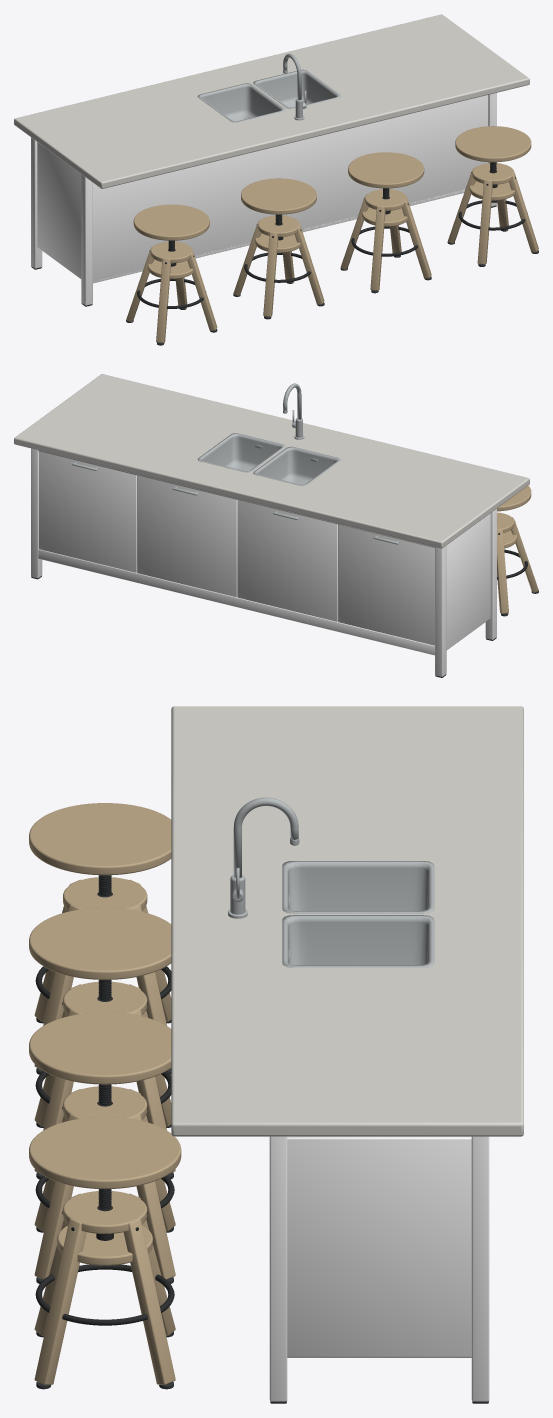
File: island-four-sink-detailed.glb
3 renders of one model, top to bottom at view 1: azimuth 30°, elevation 25°; view 2: azimuth 150°, elevation 25°; view 3: azimuth 270°, elevation 25°, orthographic. The views are drawn at different scales.
Visible parts, largest first — view 1: Thick eased island worktop, Recessed island rear panel, Recessed island end panel, Rounded timber stool seat.002, Rounded timber stool seat, Rounded timber stool seat.003, Rounded timber stool seat.001, Rounded stainless bowl and rim, Rounded stainless bowl and rim.001, Square island corner post, Square island corner post.001, Splayed timber stool leg.014 (+20 smaller); view 2: Thick eased island worktop, Recessed sink island door.001, Recessed sink island door.002, Recessed sink island door.003, Recessed sink island door, Recessed island end panel, Island front cross rail, Rounded stainless bowl and rim.001, Rounded stainless bowl and rim, Square island corner post.001, Square island corner post.003, Square island corner post (+4 smaller); view 3: Thick eased island worktop, Recessed island end panel.001, Rounded timber stool seat.003, Rounded timber stool seat.002, Rounded timber stool seat.001, Rounded timber stool seat, Rounded stainless bowl and rim.001, Rounded stainless bowl and rim, Square island corner post.002, Square island corner post.003, Splayed timber stool leg.012, Splayed timber stool leg.015 (+13 smaller).
Part boxes in pixels (<box>): Thick eased island worktop: <box>14,14,529,188</box>; Recessed island rear panel: <box>93,95,488,282</box>; Recessed island end panel: <box>37,142,81,278</box>; Rounded timber stool seat.002: <box>348,152,424,188</box>; Rounded timber stool seat: <box>133,204,209,240</box>; Rounded timber stool seat.003: <box>455,126,531,162</box>; Rounded timber stool seat.001: <box>241,178,316,214</box>; Rounded stainless bowl and rim: <box>197,83,285,122</box>; Rounded stainless bowl and rim.001: <box>253,69,340,109</box>; Square island corner post: <box>81,174,92,305</box>; Square island corner post.001: <box>31,137,42,268</box>; Splayed timber stool leg.014: <box>477,180,492,264</box>; Thick eased island worktop: <box>14,374,529,548</box>; Recessed sink island door.001: <box>237,500,337,621</box>; Recessed sink island door.002: <box>137,475,237,597</box>; Recessed sink island door.003: <box>39,451,136,572</box>; Recessed sink island door: <box>338,524,434,645</box>; Recessed island end panel: <box>446,513,490,649</box>; Island front cross rail: <box>38,549,434,655</box>; Rounded stainless bowl and rim.001: <box>197,433,285,472</box>; Rounded stainless bowl and rim: <box>253,446,340,486</box>; Square island corner post.001: <box>435,545,446,676</box>; Square island corner post.003: <box>31,448,42,578</box>; Square island corner post: <box>485,508,496,639</box>; Thick eased island worktop: <box>171,706,523,1136</box>; Recessed island end panel.001: <box>287,1136,471,1357</box>; Rounded timber stool seat.003: <box>29,1117,181,1189</box>; Rounded timber stool seat.002: <box>29,1012,171,1084</box>; Rounded timber stool seat.001: <box>29,907,171,979</box>; Rounded timber stool seat: <box>29,803,171,875</box>; Rounded stainless bowl and rim.001: <box>282,915,434,967</box>; Rounded stainless bowl and rim: <box>282,861,434,913</box>; Square island corner post.002: <box>269,1136,287,1401</box>; Square island corner post.003: <box>471,1136,489,1401</box>; Splayed timber stool leg.012: <box>123,1218,175,1384</box>; Splayed timber stool leg.015: <box>34,1218,86,1384</box>.
Size of the model in its own units: 2.79 by 1.26 by 1.4.
